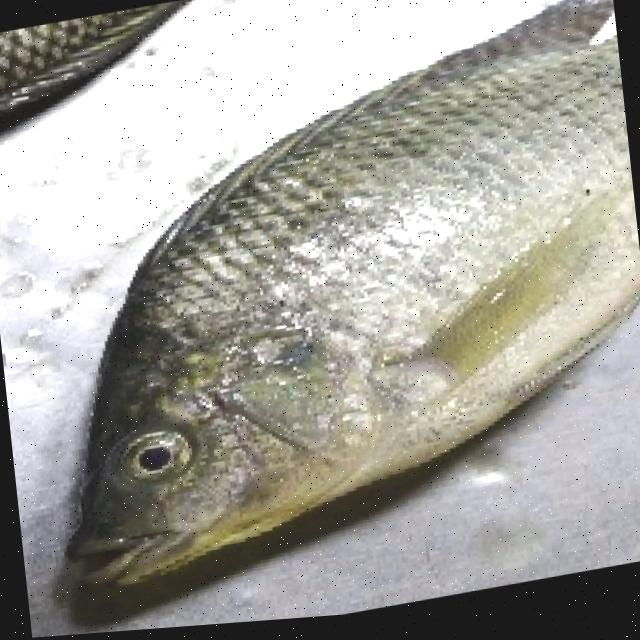Fresh: (109, 67, 640, 593), (108, 413, 204, 511)
